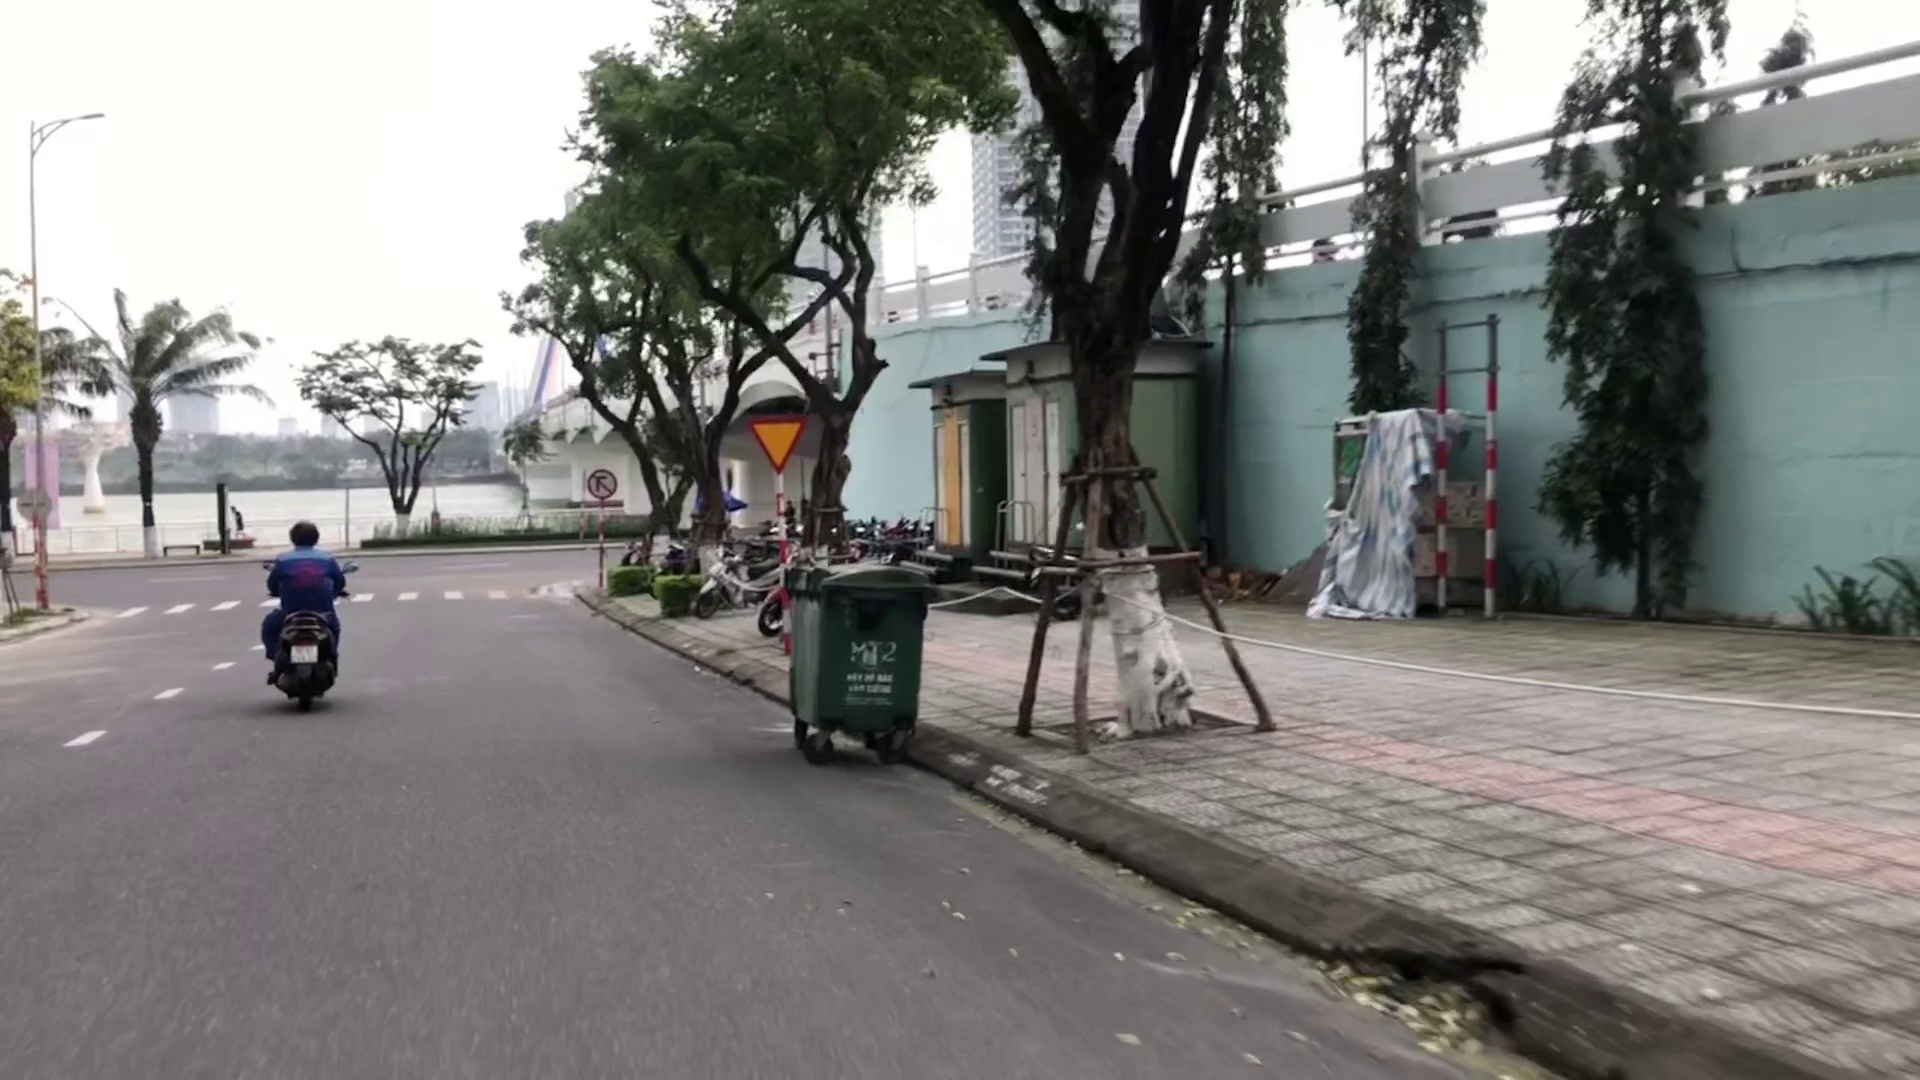Bien khac: (746, 407, 810, 476), (587, 465, 618, 500)
